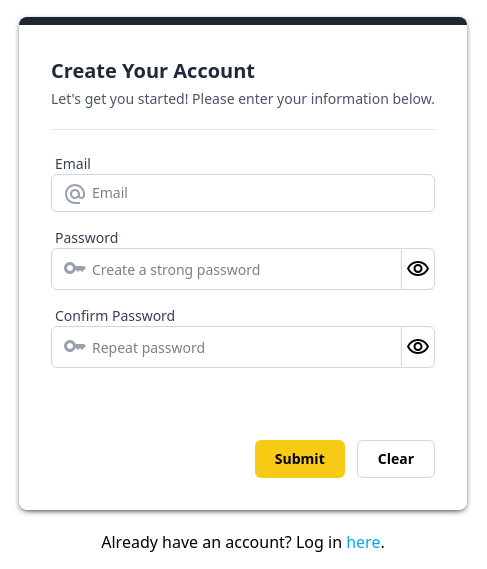
Scenario: APP - Auth - SignUp › should reset the formState and clear values on resetBtn click
In the field with test id "email-field": (243, 193) 51,174 -> 435,212, type "dirty-state@test.com"
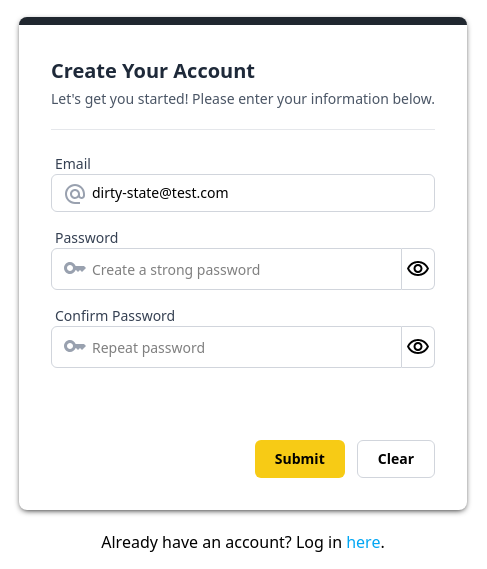
Click the button with test id "reset-btn": (396, 459) 357,440 -> 435,478
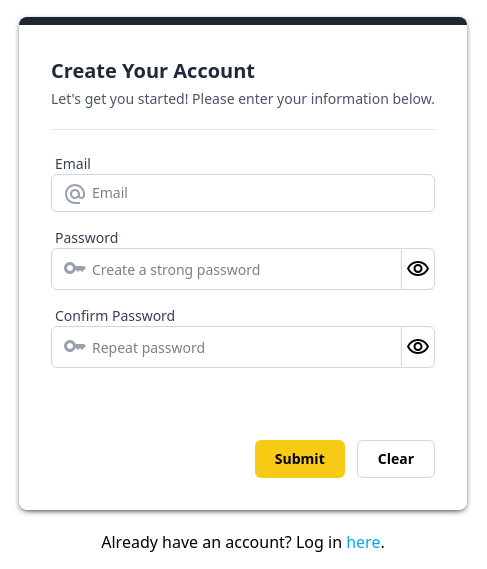
Now the field with test id "email-field" is empty, box 51,174 -> 435,212
